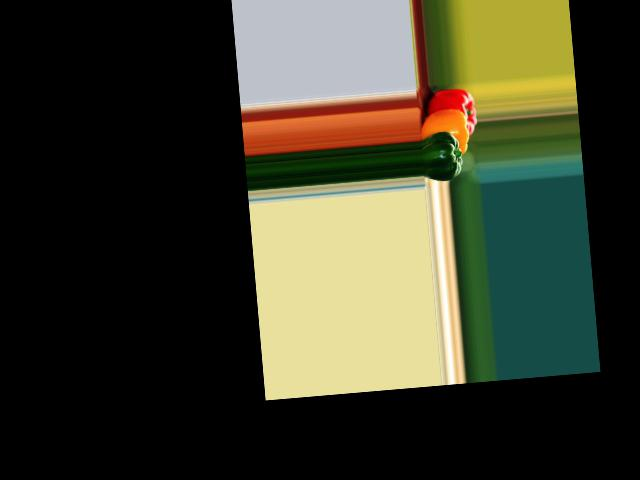bell_pepper: (418, 87, 477, 139)
